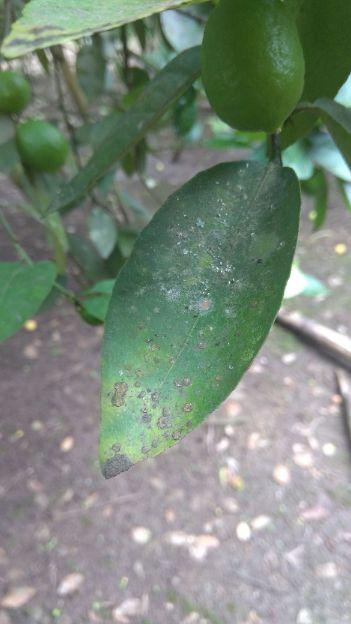Myzus persicae: (99, 163, 300, 477)
